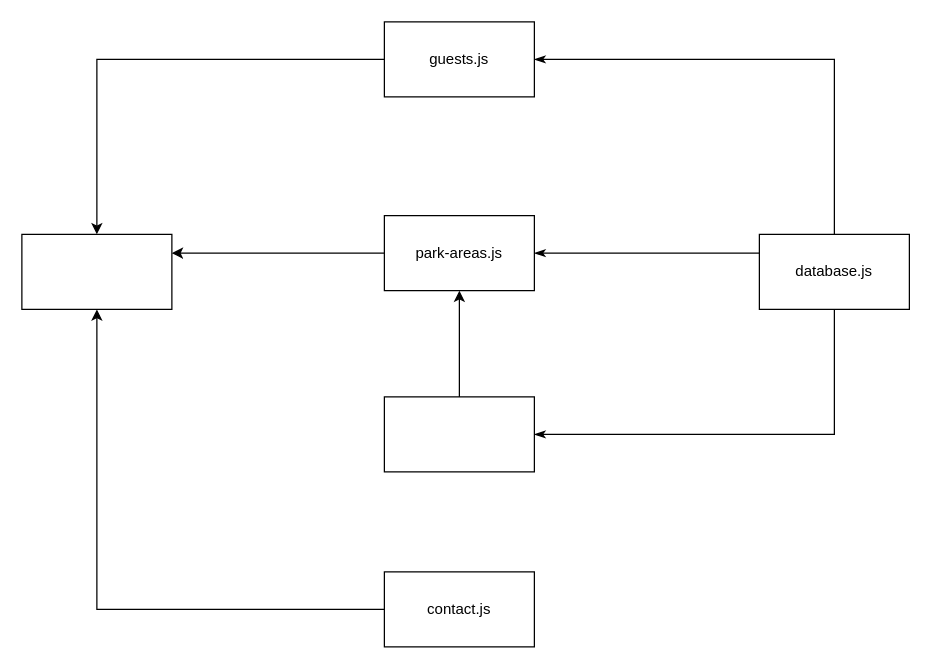
The diagram is 931 pixels wide and 669 high, and some of its shapes have lost their labels. Each missing label, with the centre of its shape:
"main.js" belongs at pixel 96 271.
"services.js" belongs at pixel 458 434.
